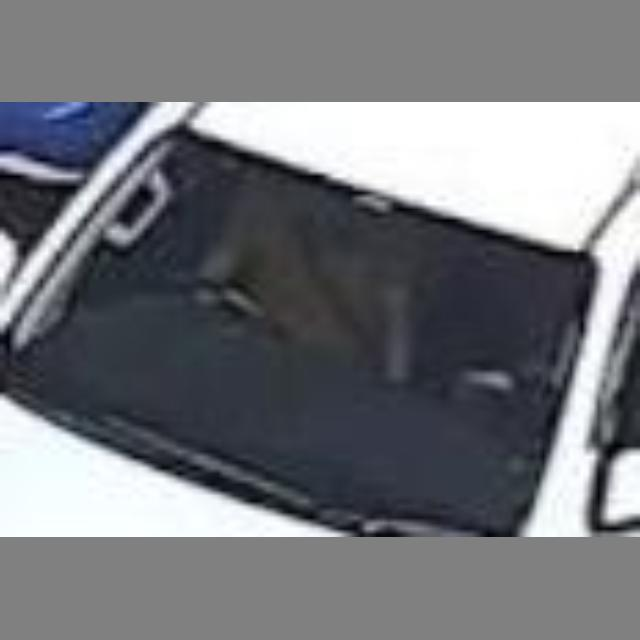pakai: (226, 185, 425, 378)
